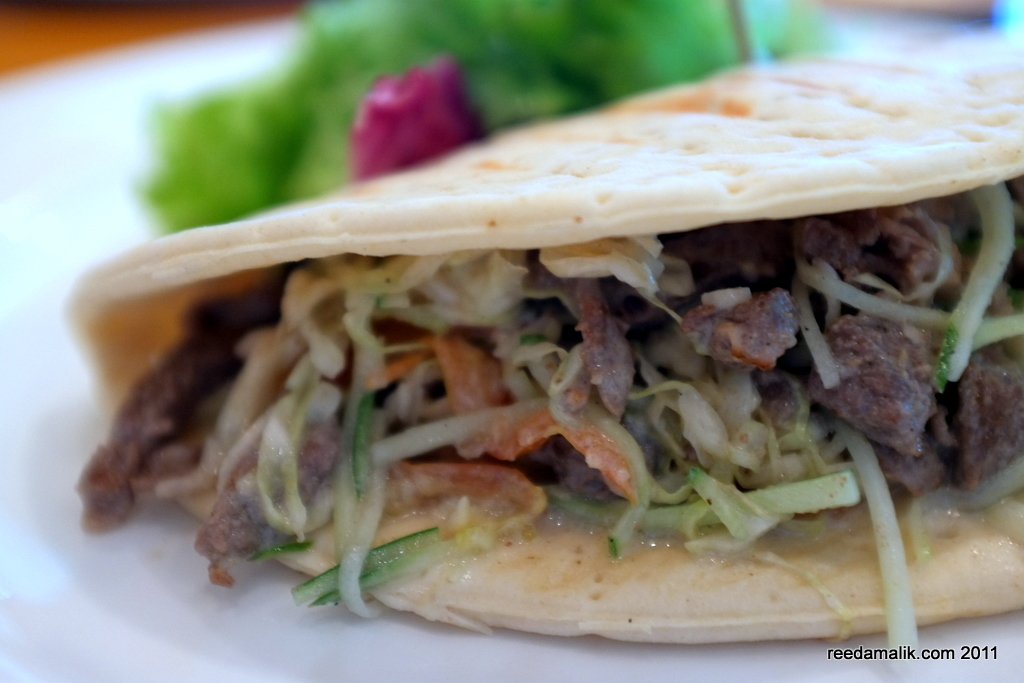sandwich: (57, 60, 1023, 649)
